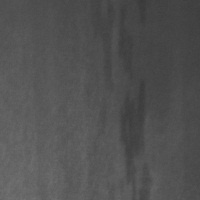inclusion: (116, 1, 152, 199), (88, 1, 114, 156)
